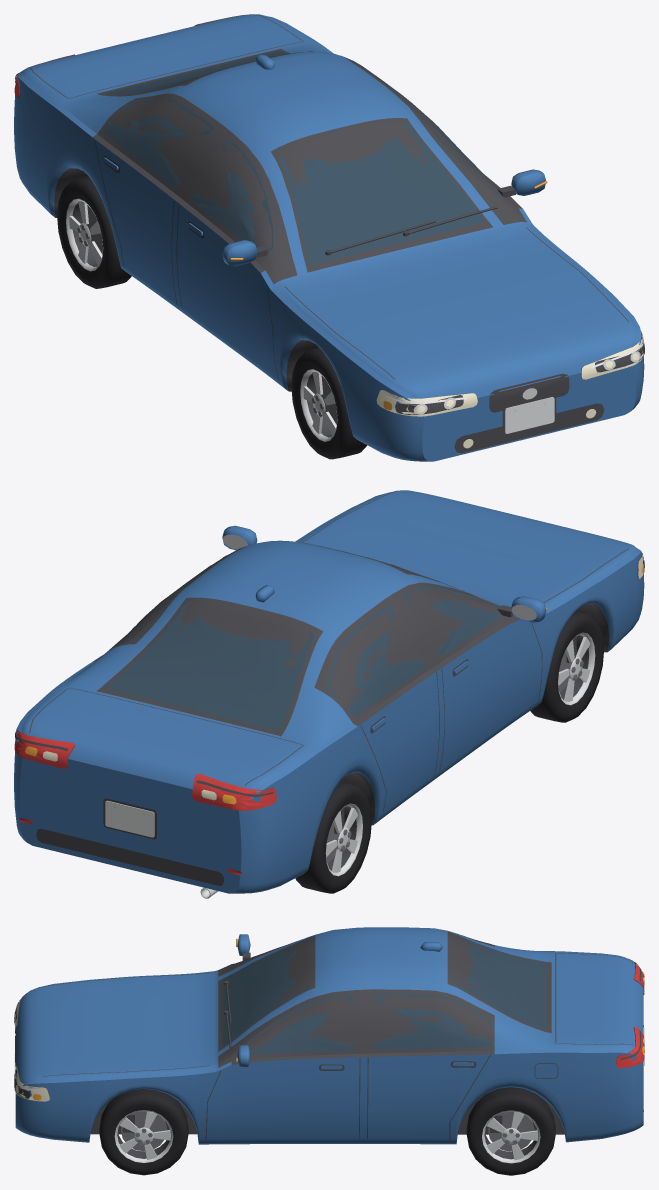
File: 350_close.fbx
The picture shows the model from 3 angles, top to bottom: view 1: azimuth 30°, elevation 25°; view 2: azimuth 150°, elevation 25°; view 3: azimuth 270°, elevation 25°; orthographic projection. The views are drawn at different scales.
Visible parts, largest first — view 1: 350_close; view 2: 350_close; view 3: 350_close.
Boxes of the visible parts, x1,y1,x2,y2 form: 350_close: [14, 14, 644, 461]; 350_close: [14, 490, 644, 898]; 350_close: [14, 927, 644, 1175].
Bounding box in the file's own units: 2.15 × 1.51 × 4.67.
